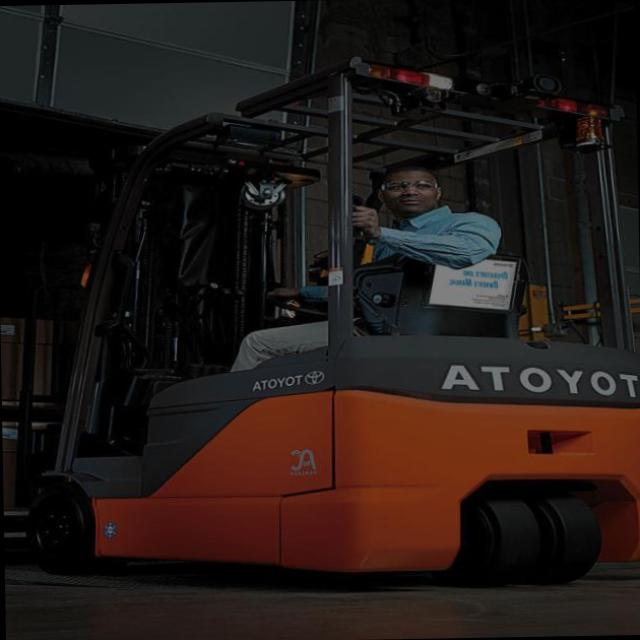driver: (223, 161, 500, 370)
forklift: (57, 57, 602, 608)
